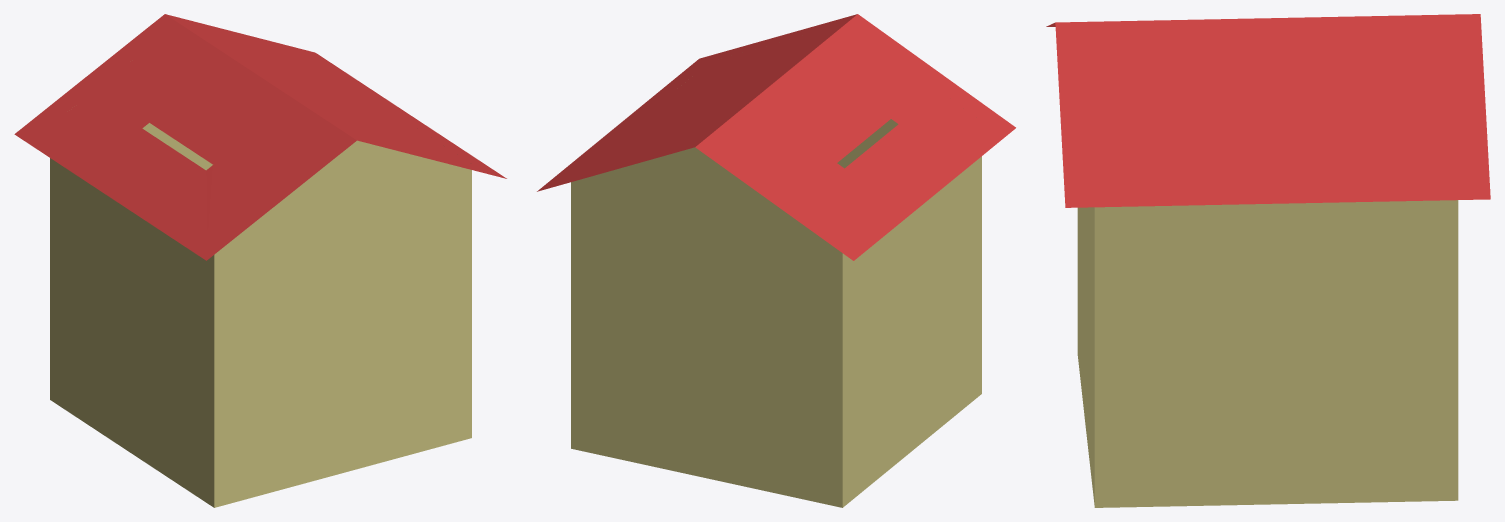
The picture shows the model from 3 angles, left to right: view 1: azimuth 30°, elevation 25°; view 2: azimuth 150°, elevation 25°; view 3: azimuth 270°, elevation 25°; orthographic projection. The views are drawn at different scales.
Bounding box in the file's own units: 10.89 × 10.83 × 10.97.
